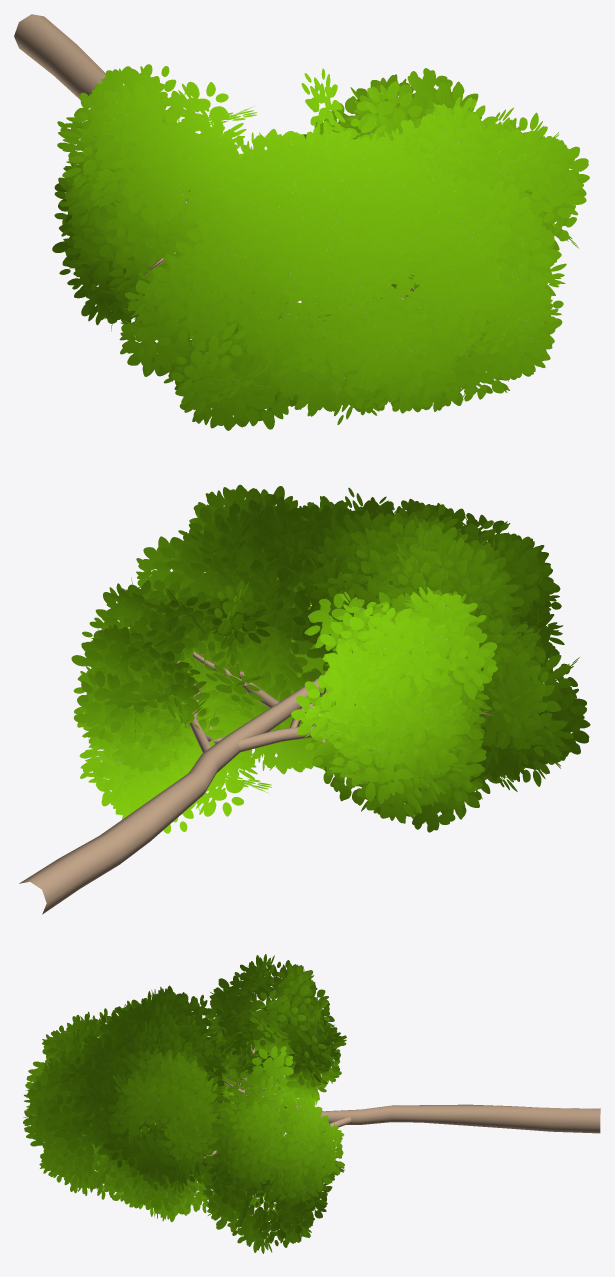
Rendered from tree_lush_01.glb.
3 renders of one model, top to bottom at view 1: azimuth 30°, elevation 25°; view 2: azimuth 150°, elevation 25°; view 3: azimuth 270°, elevation 25°, orthographic. The views are drawn at different scales.
Visible parts, largest first — view 1: NormalTree_1; view 2: NormalTree_1; view 3: NormalTree_1.
Part boxes in pixels (left/top/right/bottom): NormalTree_1: left=14, top=14, right=589, bottom=430; NormalTree_1: left=19, top=484, right=590, bottom=914; NormalTree_1: left=23, top=954, right=600, bottom=1253.
Size of the model in its own units: 4.05 by 2.74 by 6.87.
Materials: 2 (1 with a texture image).
